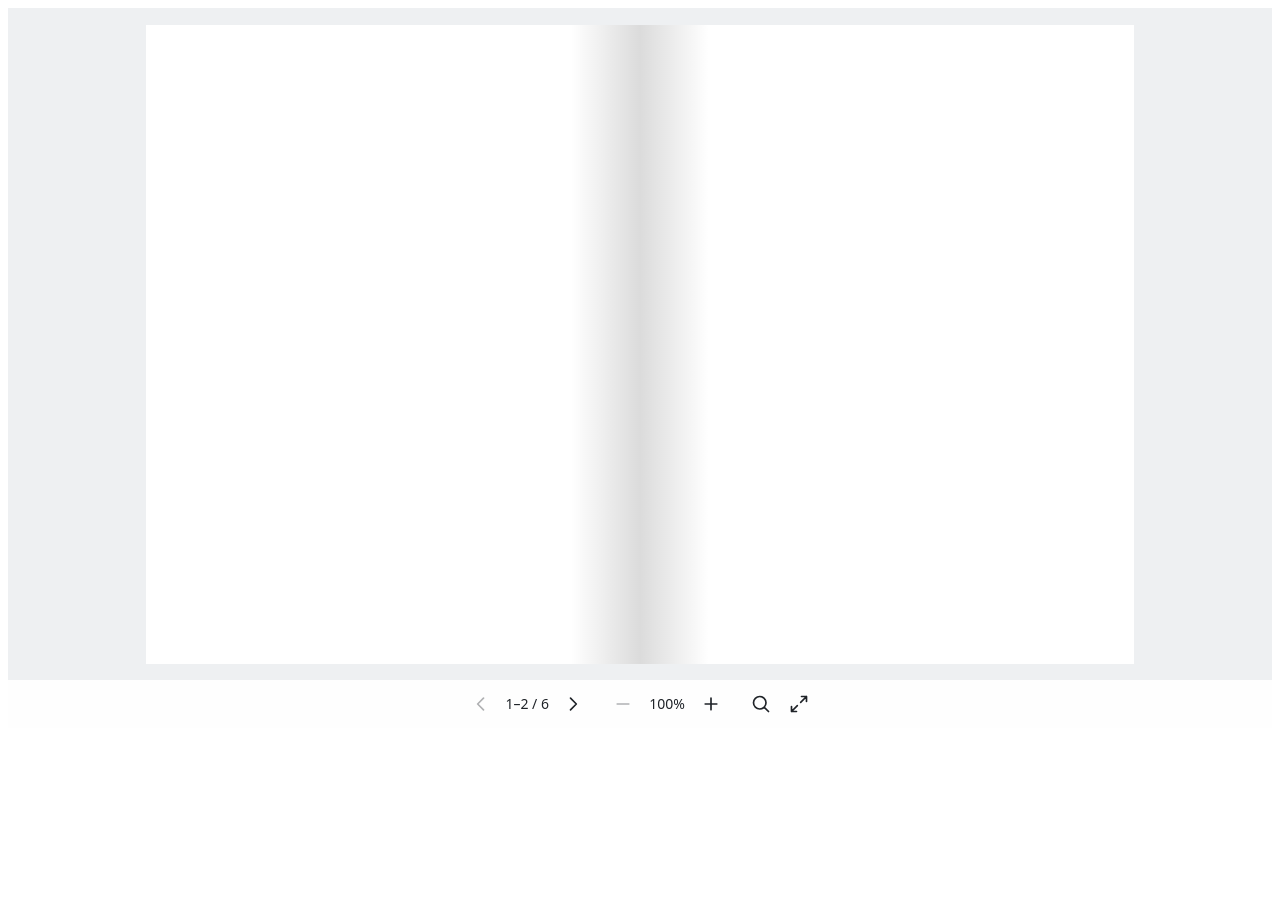
Test: search › says so when nothing matches
Click the button named "Search": (761, 704) [743,686,779,722]
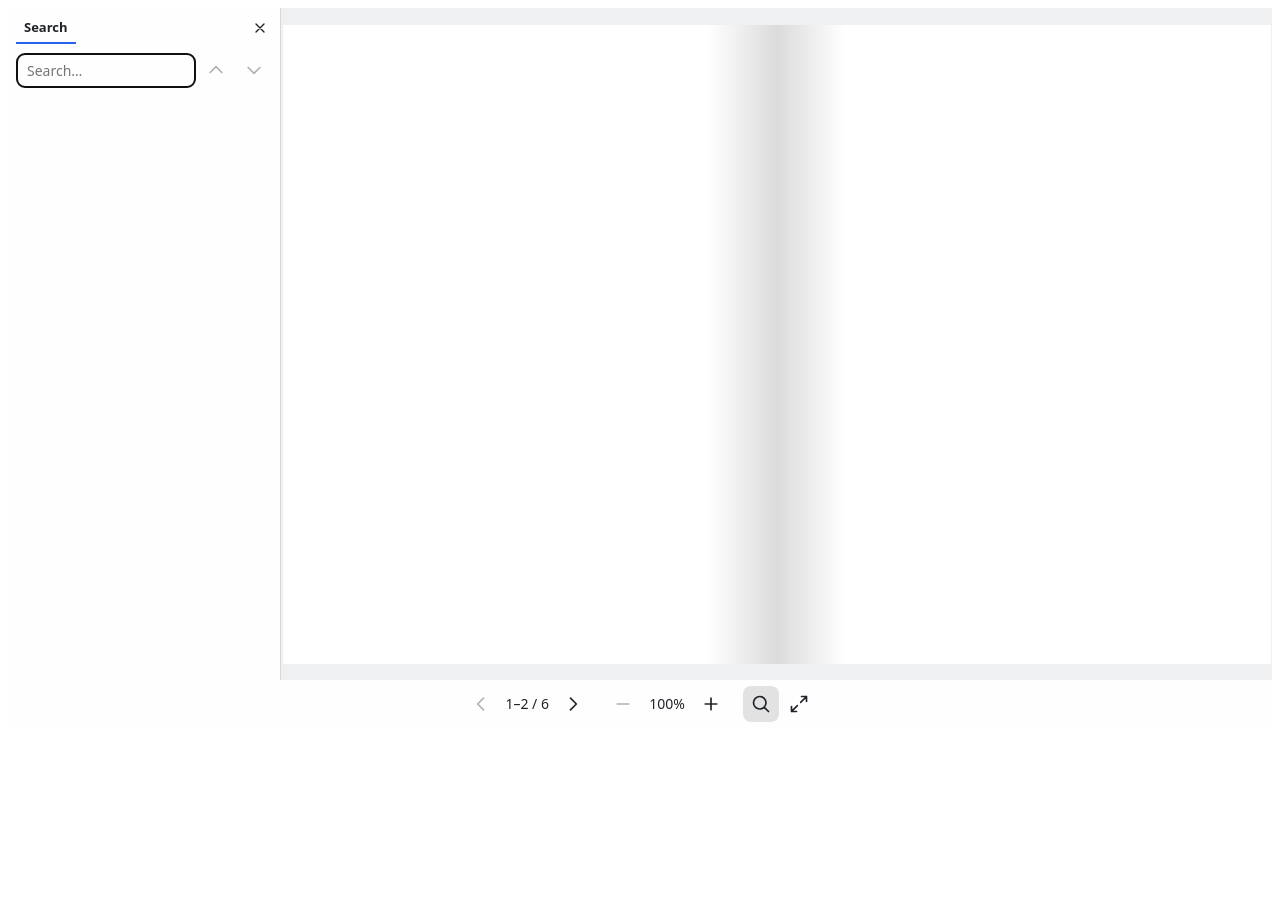
In the search field named "Search the document": (106, 70) [16,52,196,88], type "zebra"
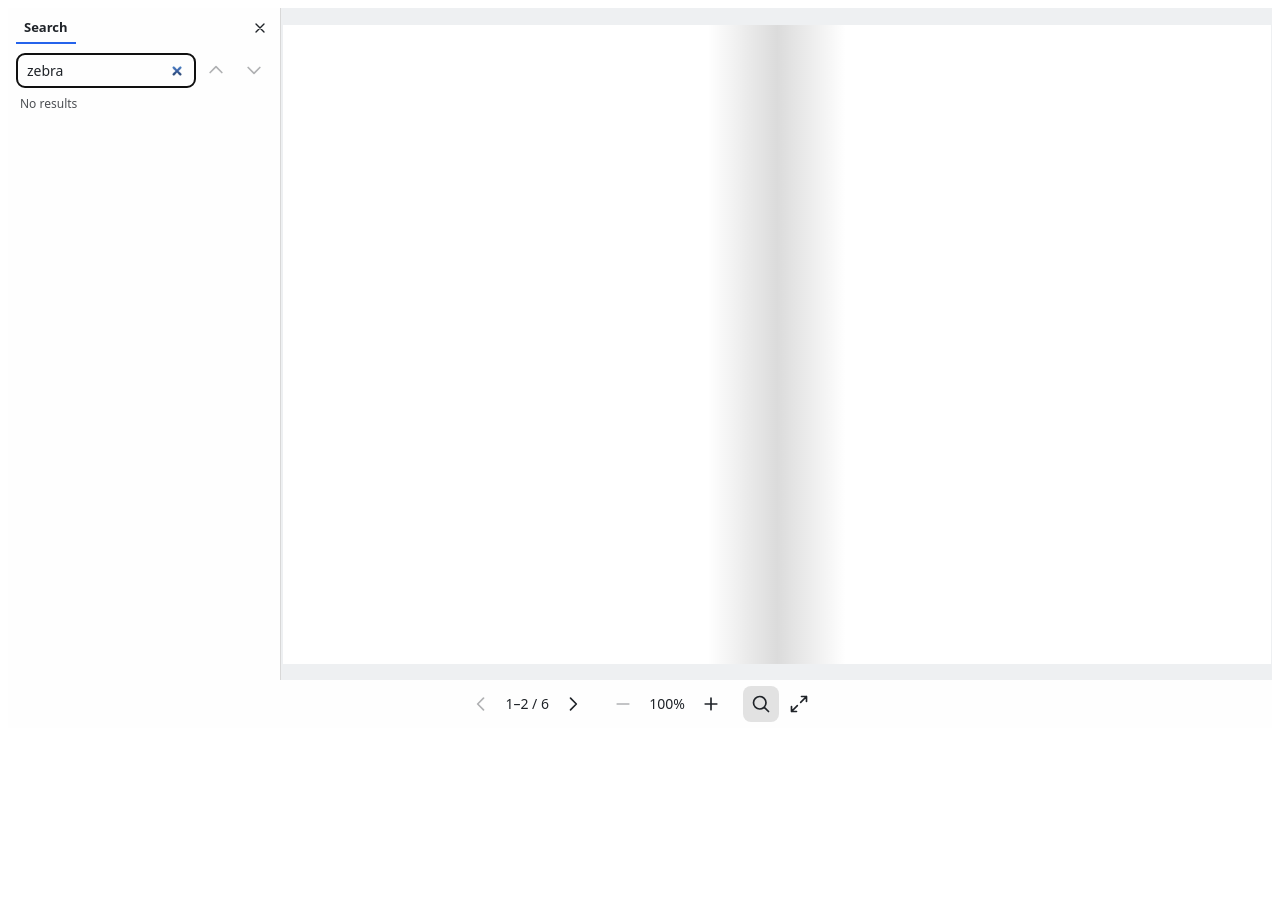
Expected: the message reads "No results", [20,95,77,112]
